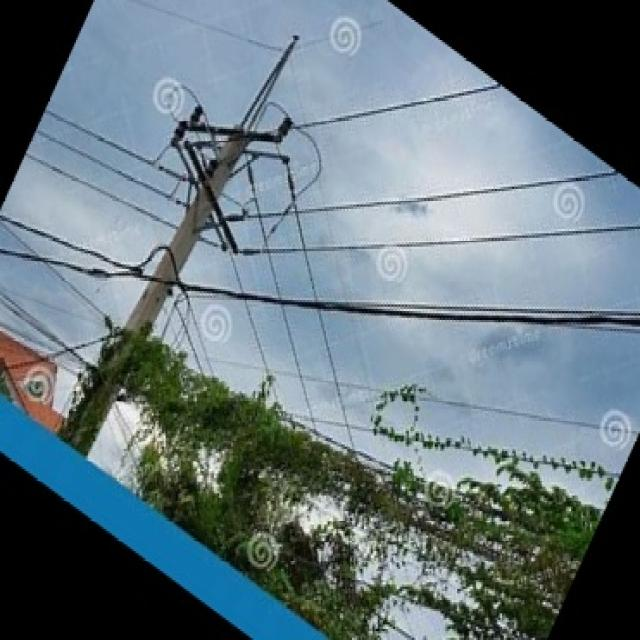critical vegetation: (144, 347, 596, 563)
